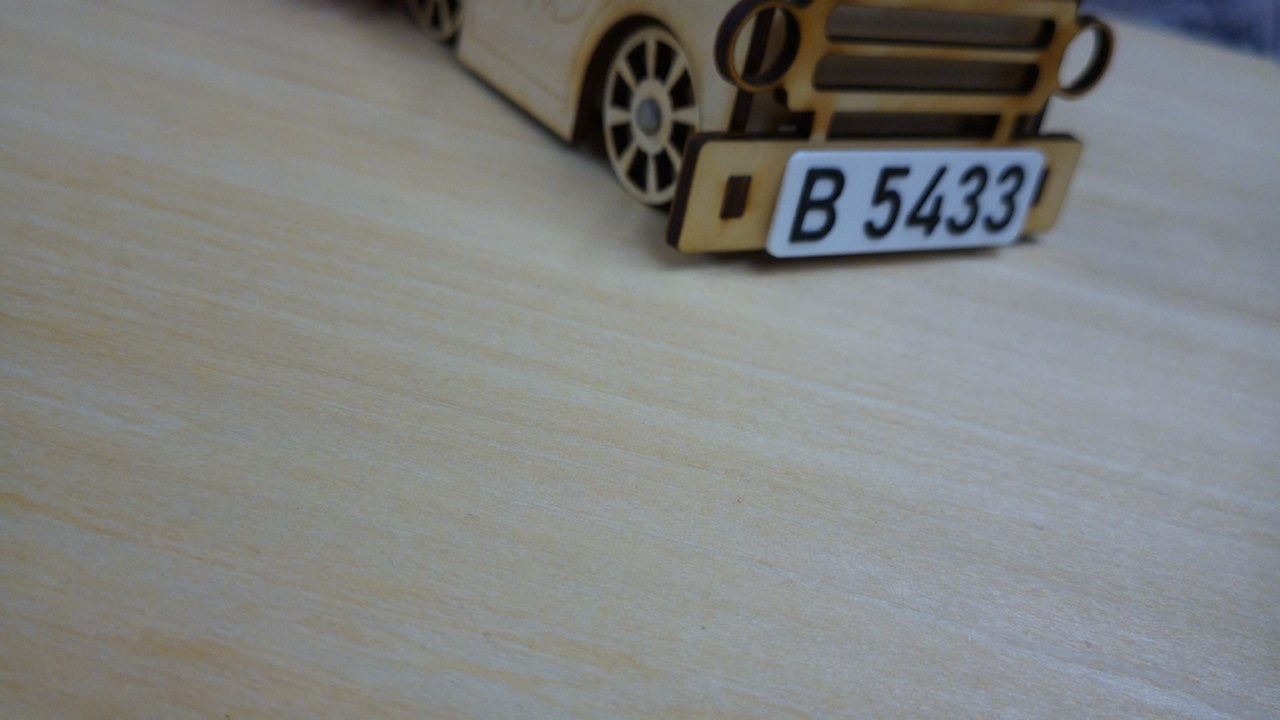license_plate: (761, 143, 1050, 263)
